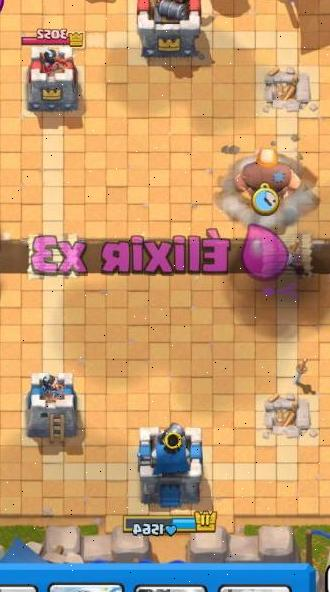player_giant: (231, 145, 302, 200)
